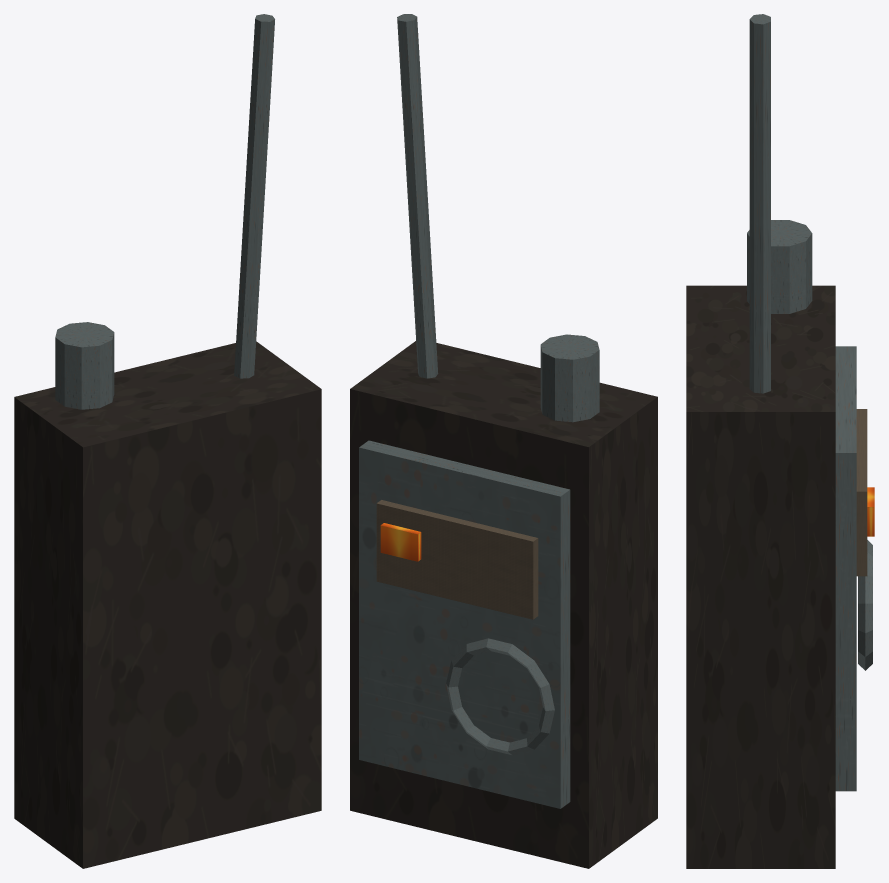
The model's file is ax-com-001_handheld_radio__active.obj.
3 renders of one model, left to right at view 1: azimuth 30°, elevation 25°; view 2: azimuth 150°, elevation 25°; view 3: azimuth 270°, elevation 25°, orthographic. The views are drawn at different scales.
Visible parts, largest first — view 1: ax-com-001_handheld_radio__active; view 2: ax-com-001_handheld_radio__active; view 3: ax-com-001_handheld_radio__active.
Part boxes in pixels (x1,y1,x2,y2): ax-com-001_handheld_radio__active: (14,14,321,868); ax-com-001_handheld_radio__active: (350,14,657,868); ax-com-001_handheld_radio__active: (686,14,874,868).
Bounding box in the file's own units: 0.32 × 0.9907 × 0.202.
Materials: 4 (4 with a texture image).
